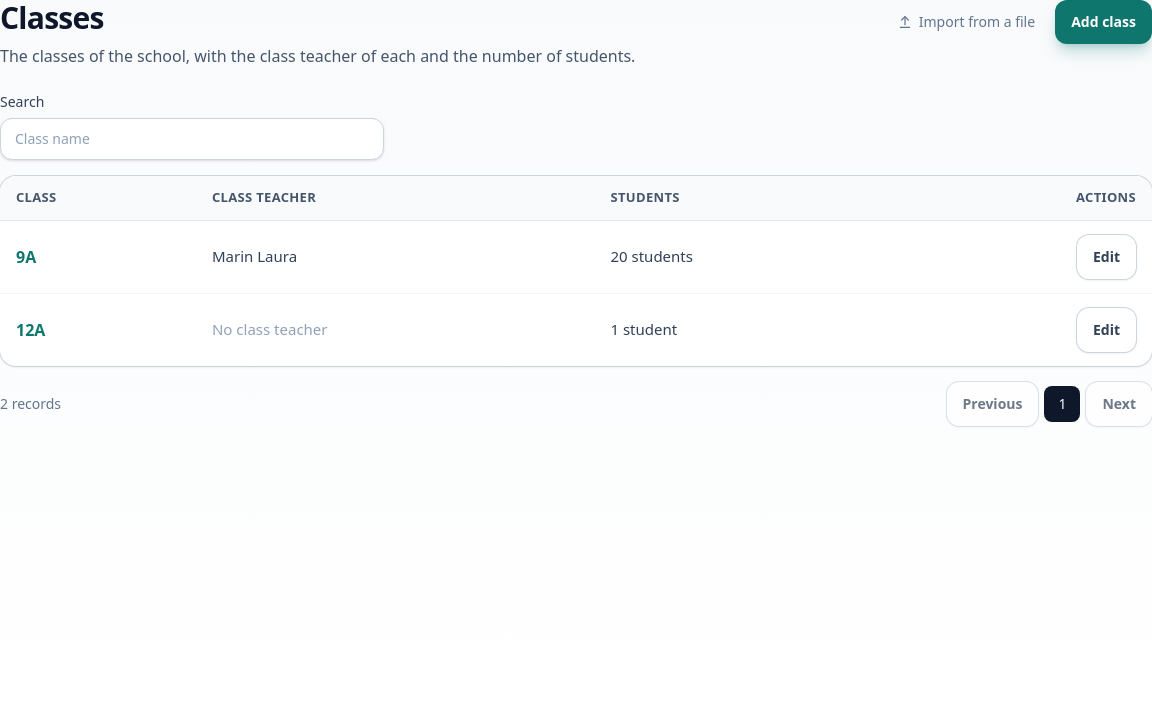
AdminClassesPage › renames a class and removes its teacher
The width and height of the screenshot is (1152, 720).
Click the button "Edit" in the row of "9A" at (1106, 256), box [1077,234,1136,278]
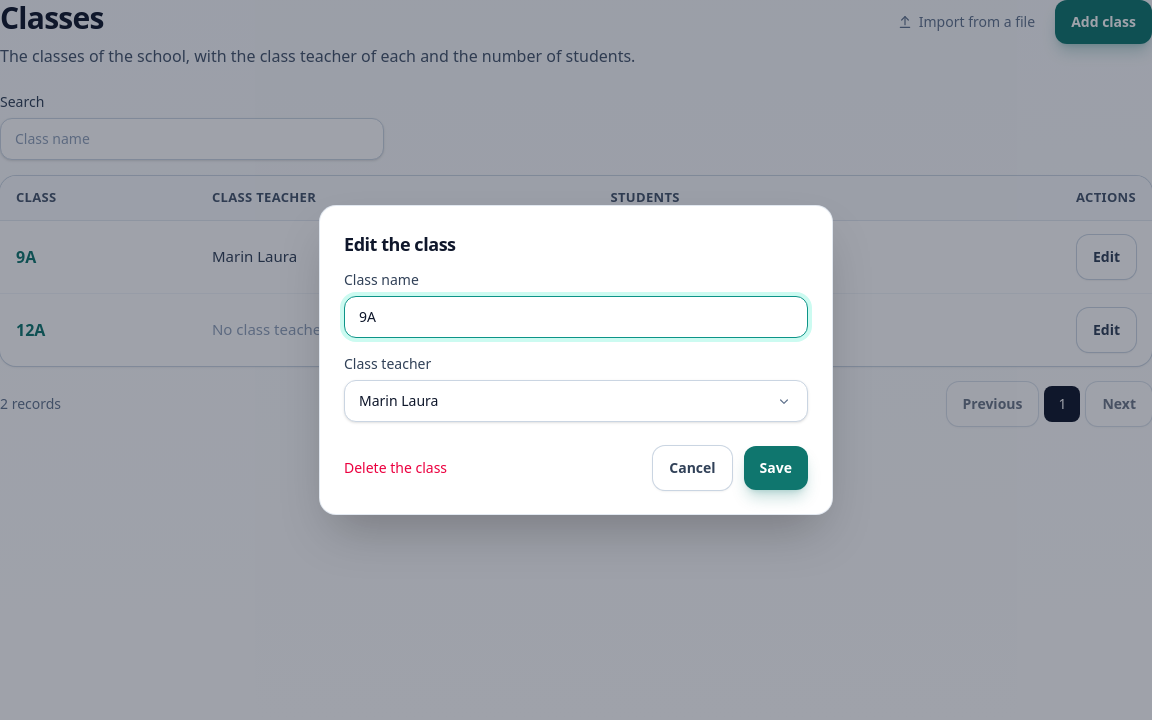
Result: the dropdown labelled "Class teacher" shows "Marin Laura" at [344,380,808,422]
Replace the text in the field labelled "Class name" with "9B" at (576, 317), box [344,296,808,338]
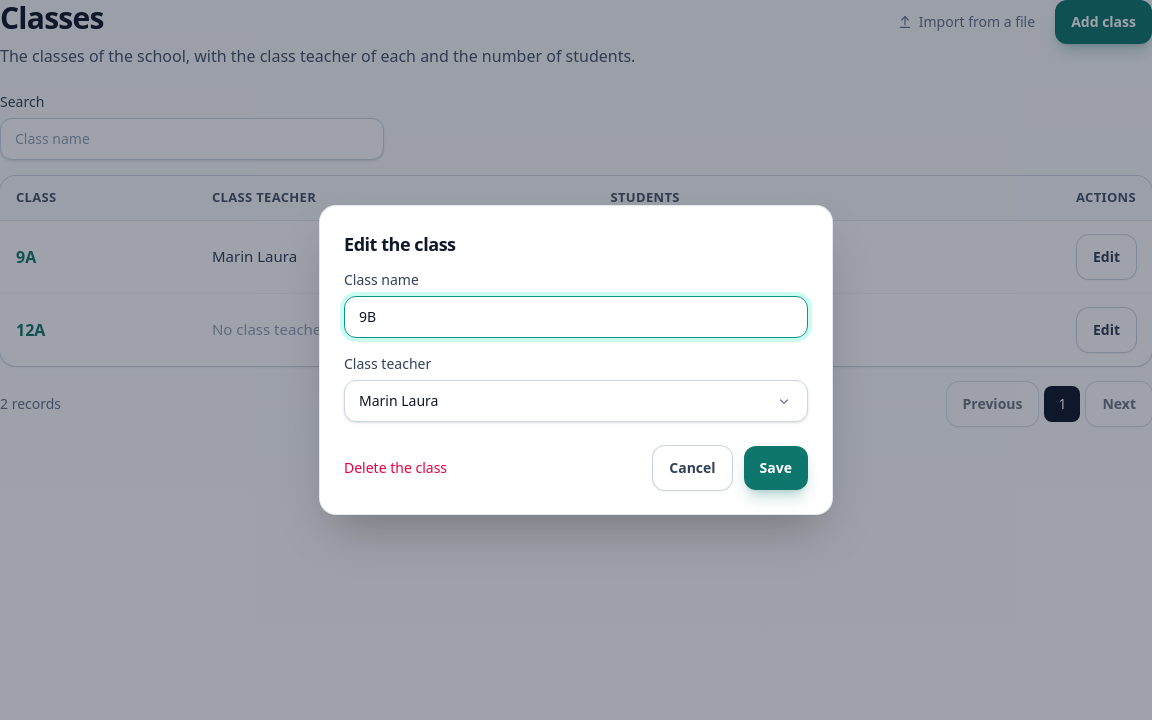
Select "No class teacher" in the dropdown labelled "Class teacher" at (576, 401), box [344,380,808,422]
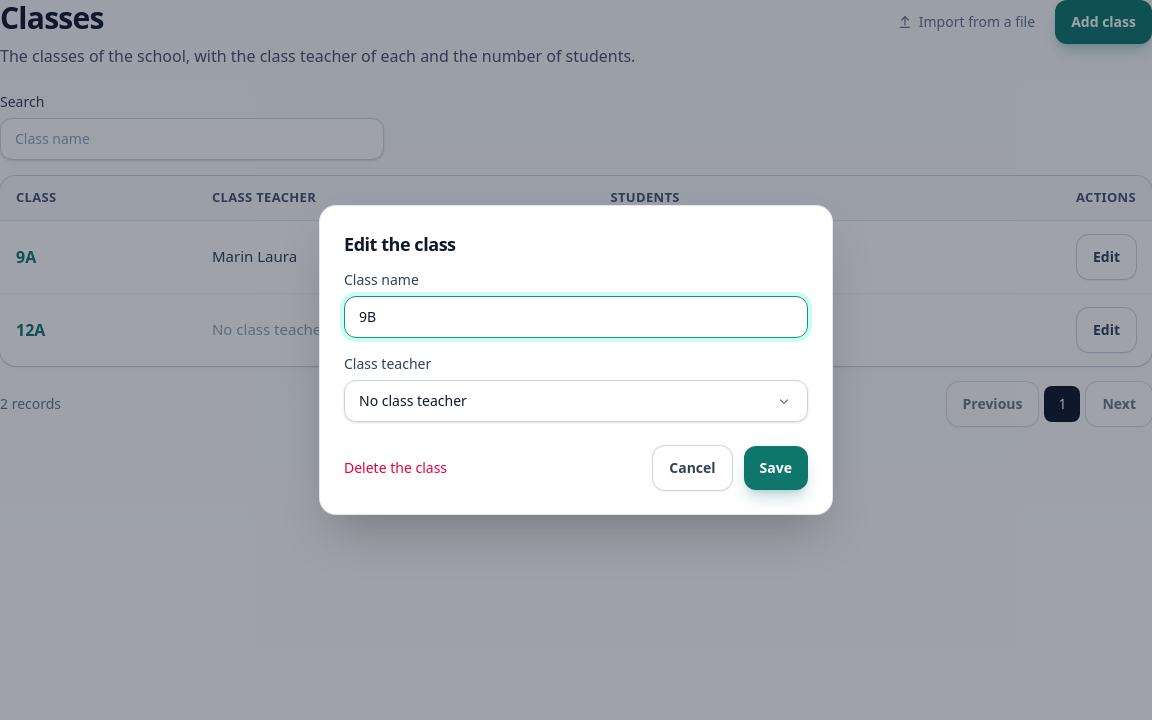
Click the button "Save" at (776, 468), box [744,446,808,490]
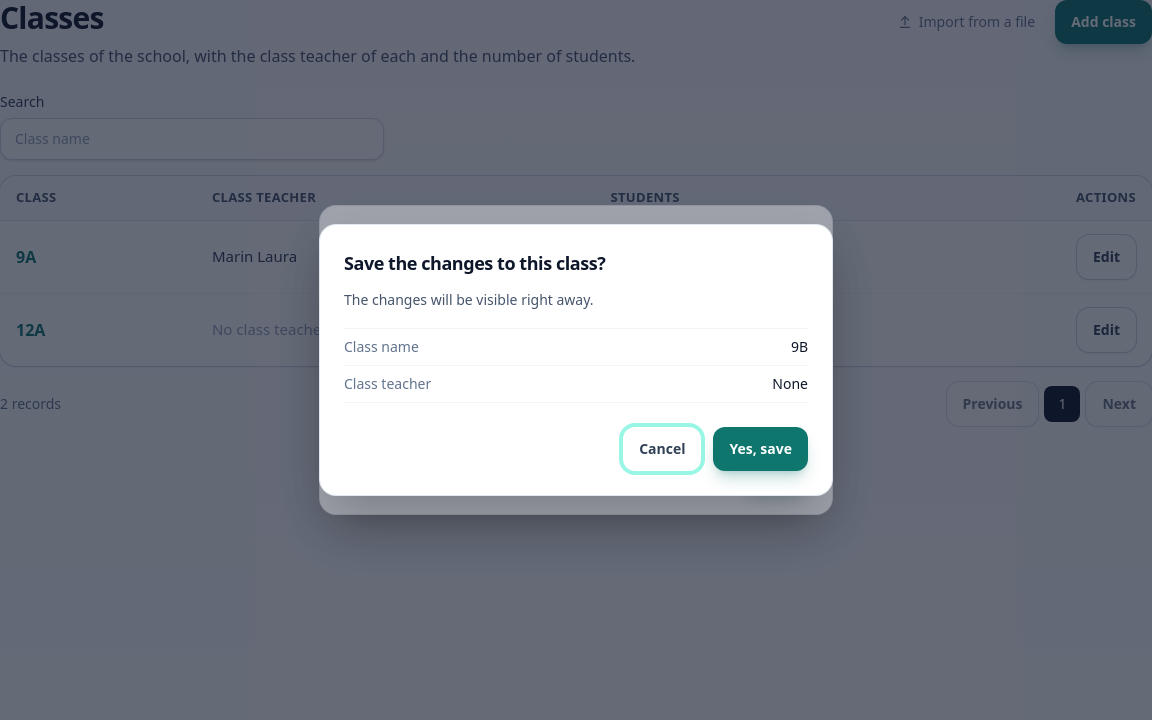
Click the button "Yes, save" at (761, 449), box [713,427,808,471]
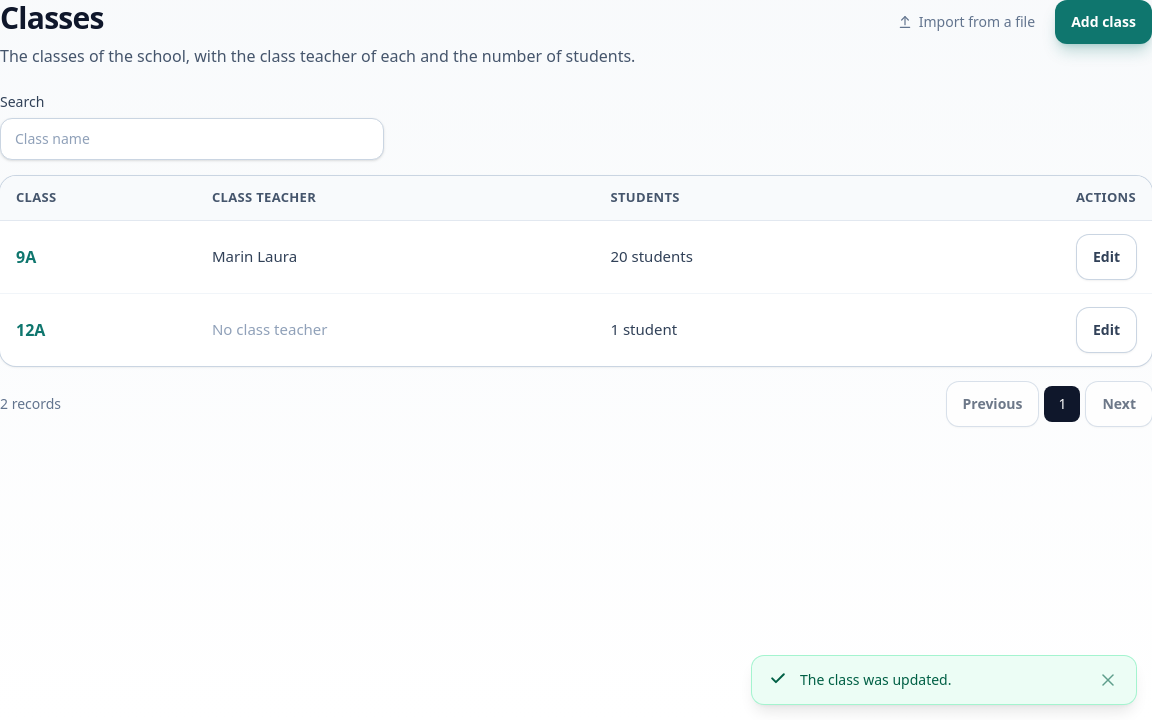
Result: the text "The class was updated." is shown at [800,670,952,689]
